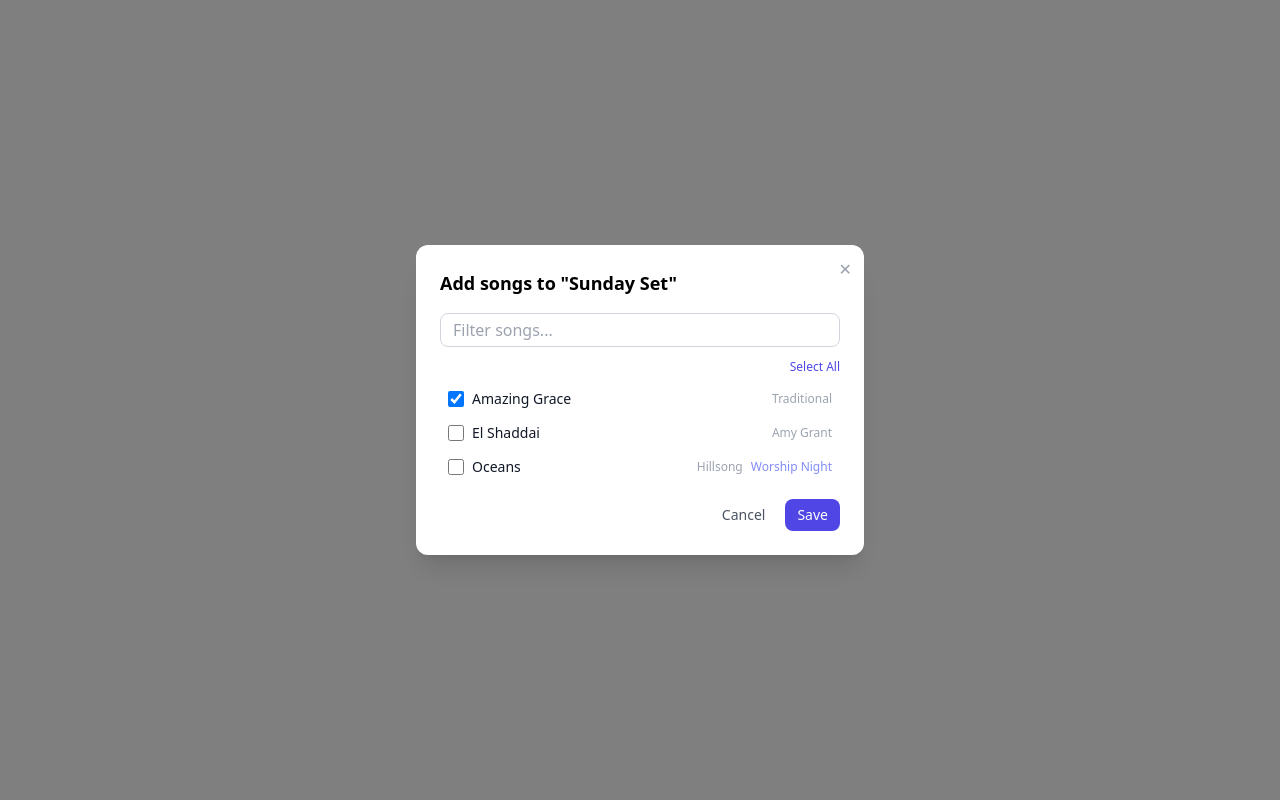
Test: AddSongsModal › filter input hides non-matching songs
Type "grace" into the field with placeholder "Filter songs..." at (640, 330), box left=440, top=313, right=840, bottom=347
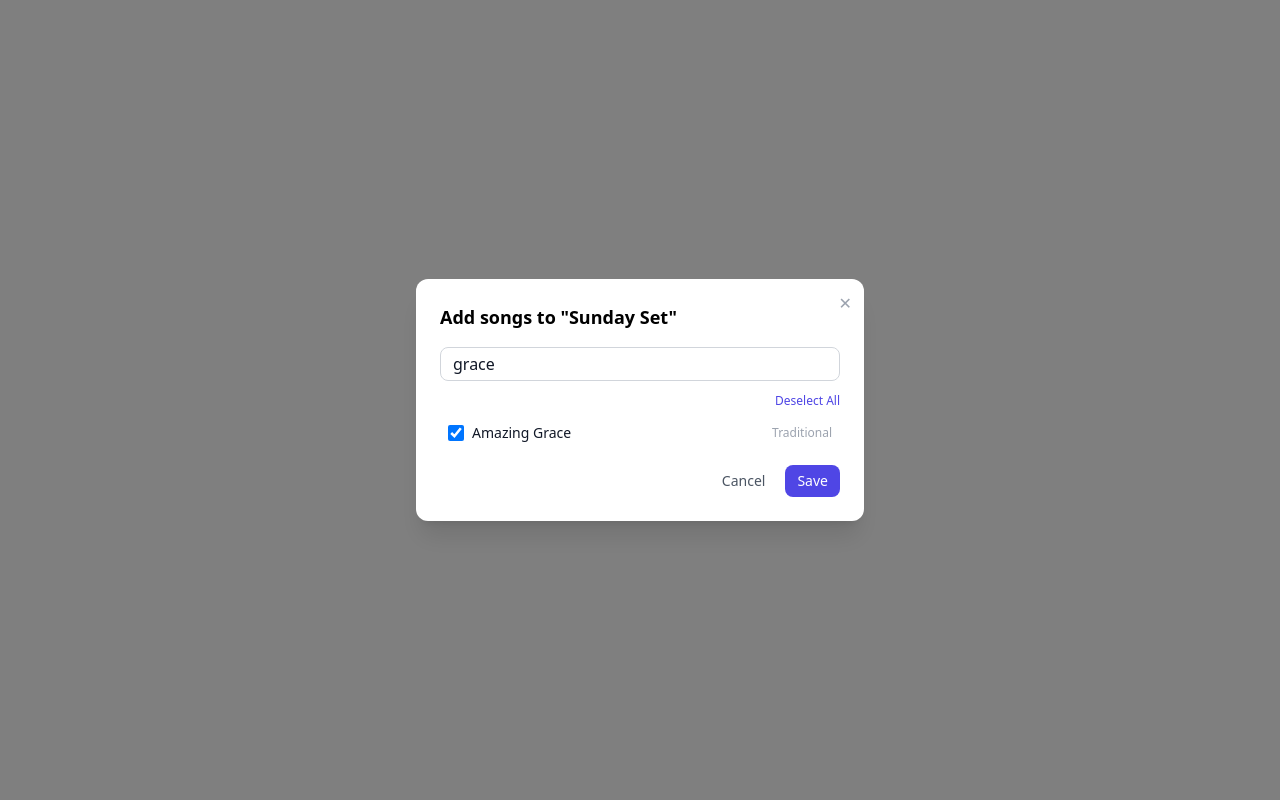
Expected: the checkbox labelled "Amazing Grace Traditional" is shown, left=448, top=425, right=464, bottom=441
Expected: the text labelled "El Shaddai" is gone
